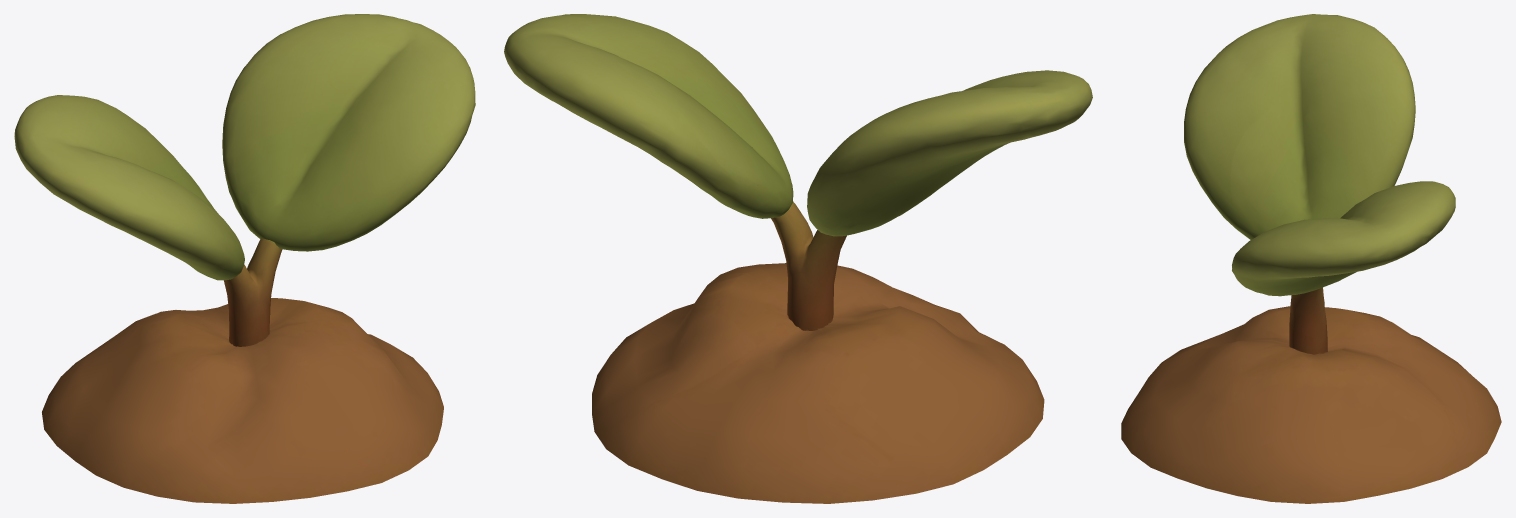
File: fruit-sapling.glb
3 views of the same model, side by side, from view 1: azimuth 30°, elevation 25°; view 2: azimuth 150°, elevation 25°; view 3: azimuth 270°, elevation 25° (orthographic). The views are drawn at different scales.
Parts seen in each view (by area): view 1: Fruit Sapling; view 2: Fruit Sapling; view 3: Fruit Sapling.
Boxes of the visible parts, <box> form: Fruit Sapling: <box>14,14,475,503</box>; Fruit Sapling: <box>504,14,1092,503</box>; Fruit Sapling: <box>1121,14,1501,503</box>.
Size of the model in its own units: 0.998 by 0.6973 by 0.7598.
1 material, 1 textured.
